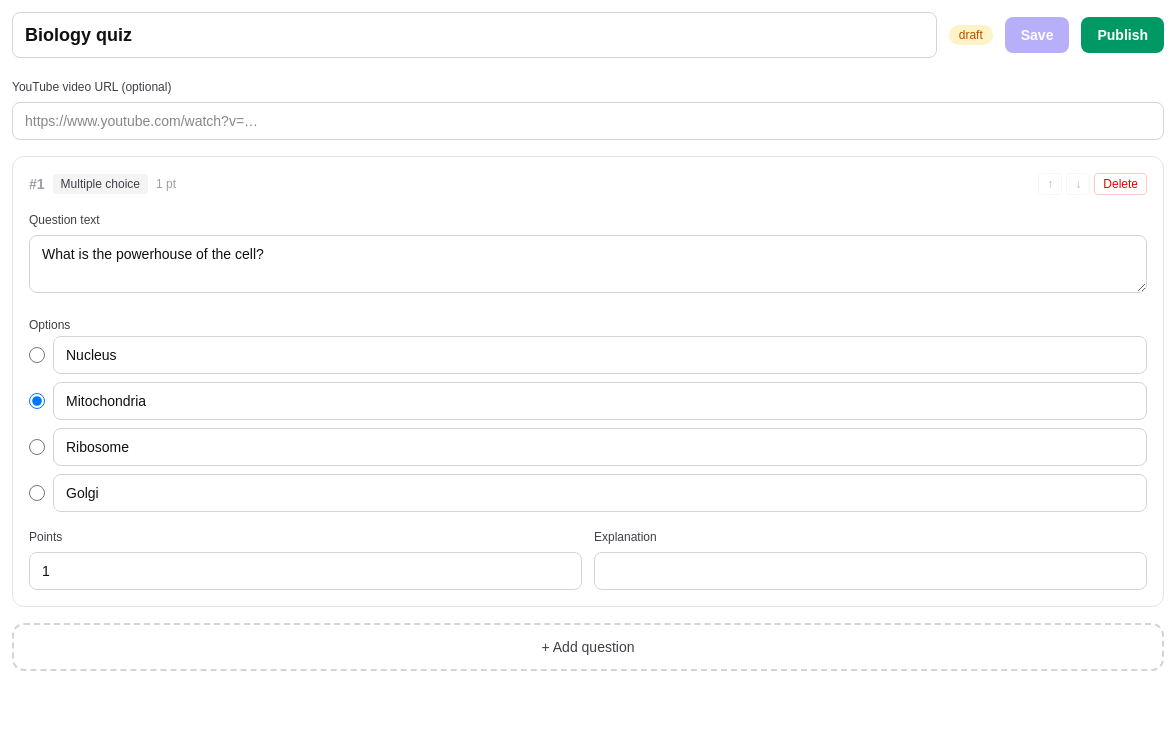
QuizEditor video URL › blocks saving an invalid URL with an inline error
Type "https://vimeo.com/12345" into the field labelled "YouTube video URL (optional)" at x=588, y=121, box [12,102,1164,140]
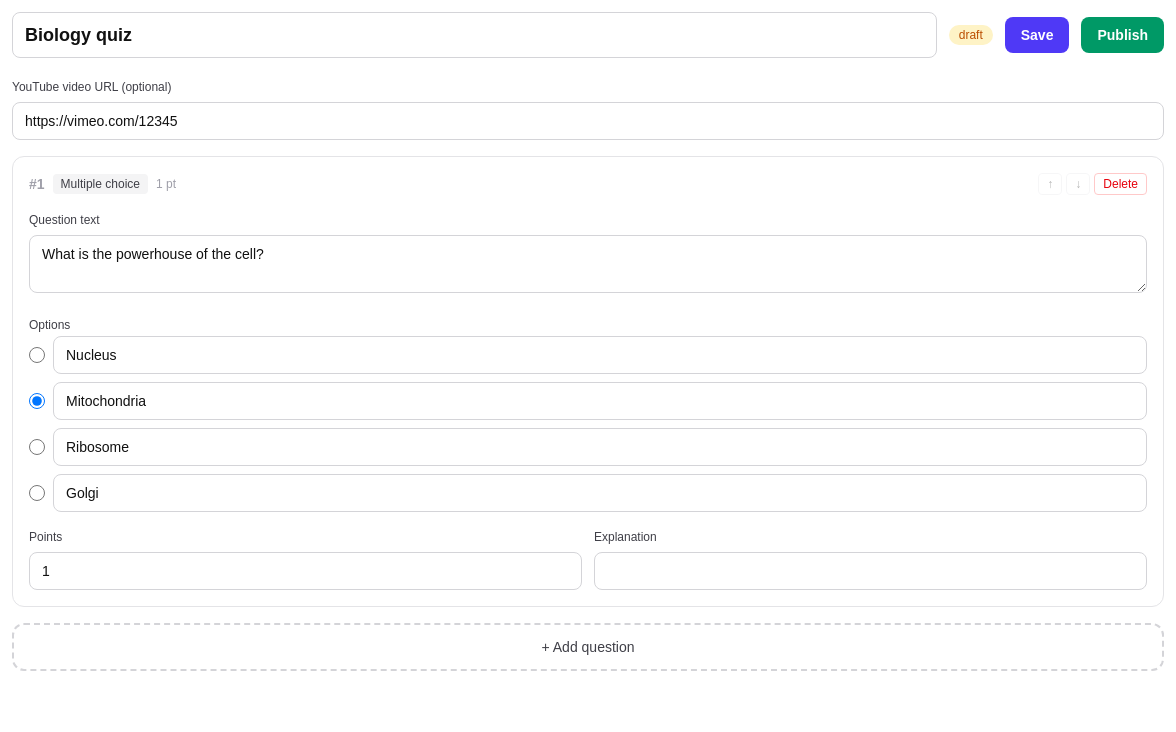
Click the button "Save" at x=1037, y=35, box [1005,17,1069,53]
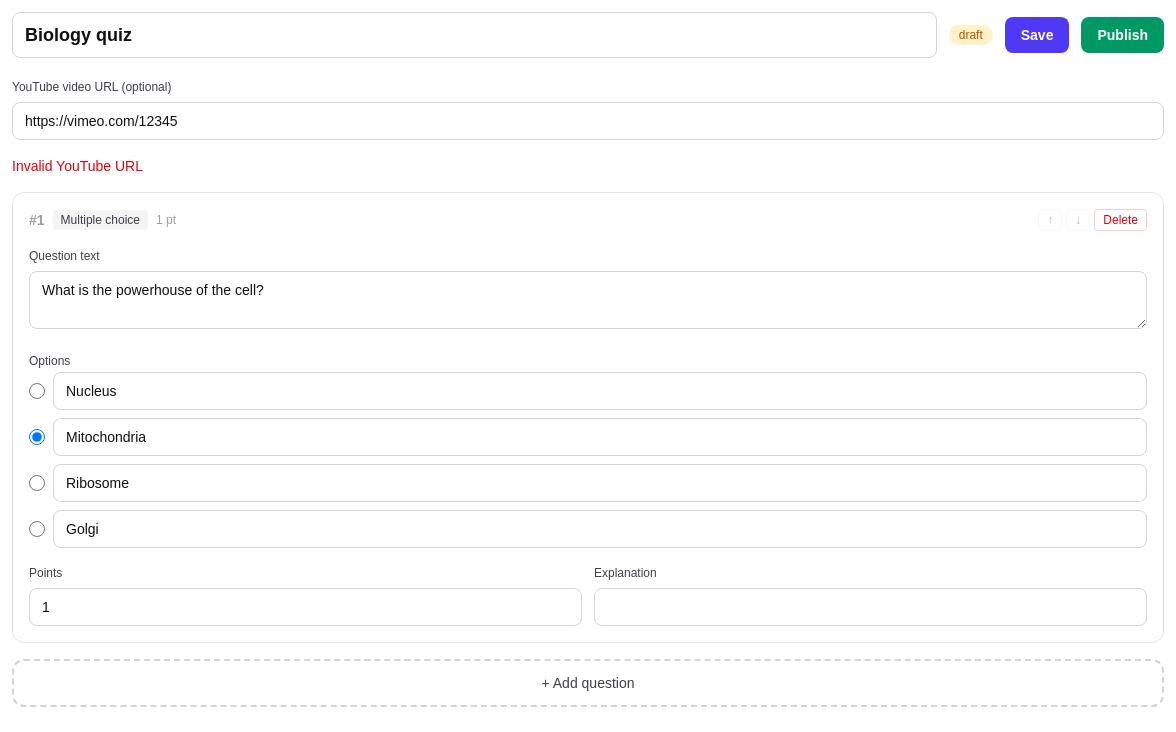
expect the text "Invalid YouTube URL" is shown: met, box [12,158,143,174]
